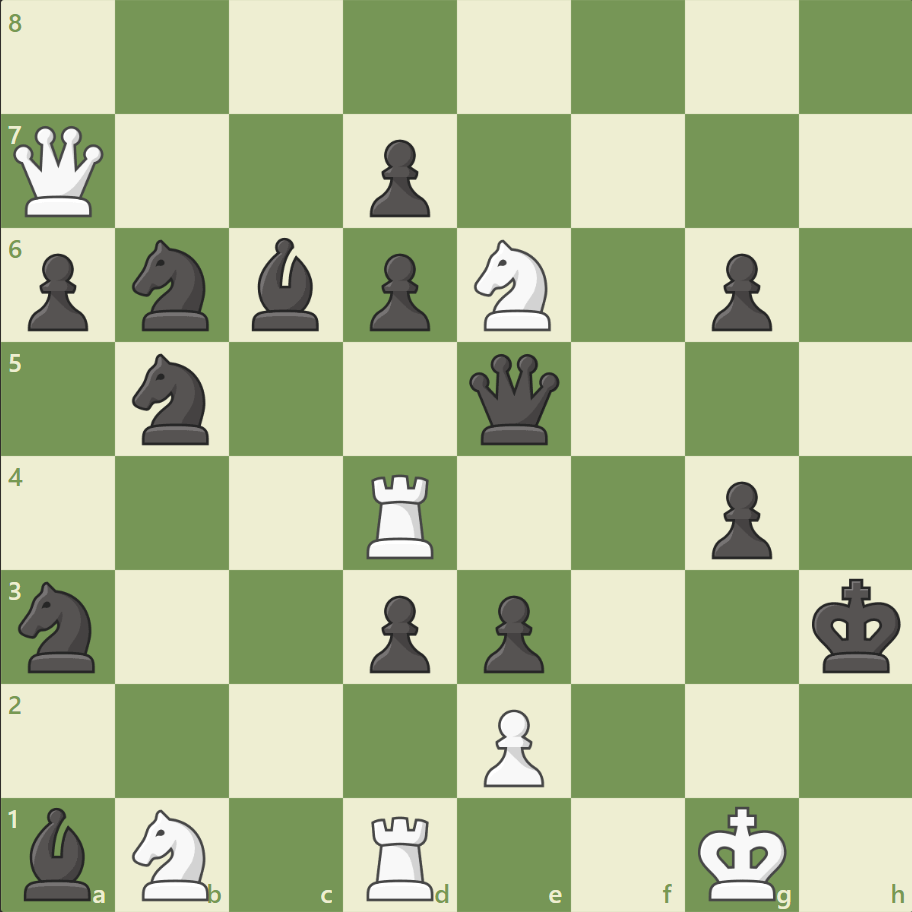K: (692, 798, 792, 906)
N: (124, 802, 222, 904), (465, 234, 562, 337)
P: (474, 700, 549, 791)
Q: (10, 122, 109, 222)
R: (360, 806, 442, 904), (360, 466, 442, 563)
b: (244, 233, 328, 336), (17, 801, 101, 904)
k: (806, 571, 906, 679)
n: (124, 234, 222, 337), (124, 348, 222, 450), (11, 575, 108, 677)
p: (20, 246, 95, 337), (701, 246, 776, 337), (701, 473, 776, 564), (474, 586, 549, 677), (361, 132, 435, 223), (361, 246, 435, 337), (361, 586, 435, 677)
q: (464, 349, 563, 449)
